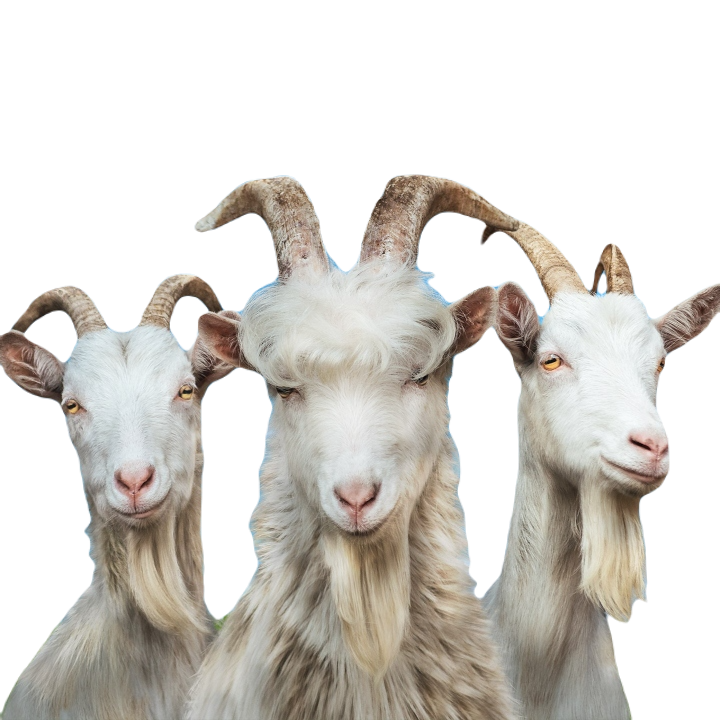Goat: (195, 174, 521, 719)
